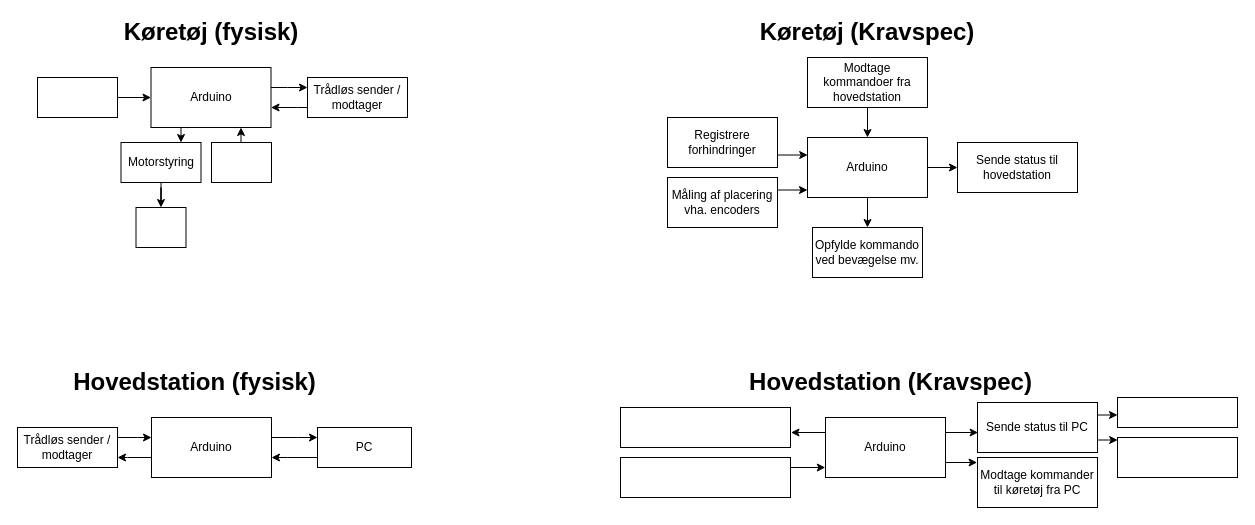
The diagram is 1255 pixels wide and 525 high, and some of its shapes have lost their labels. Here are the shapes that lost their labels. From the top down, the centre of each, then its label:
At [77,97]: "Tryksensorer".
At [241,162]: "Encoders".
At [160,227]: "Motorer".
At [705,427]: "Sende kommandoer til køretøj".
At [1177,412]: "Lagring af data".
At [705,477]: "Modtage status fra køretøj".
At [1177,457]: "Tegne grafisk repræsentation".
